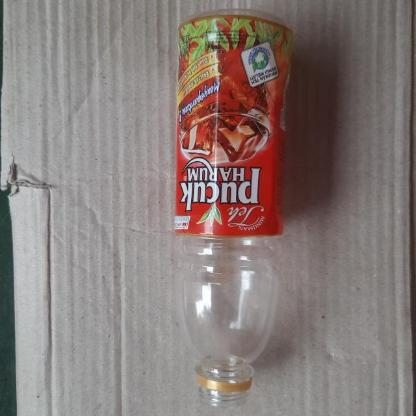Plastic Bottle: (174, 8, 294, 408)
